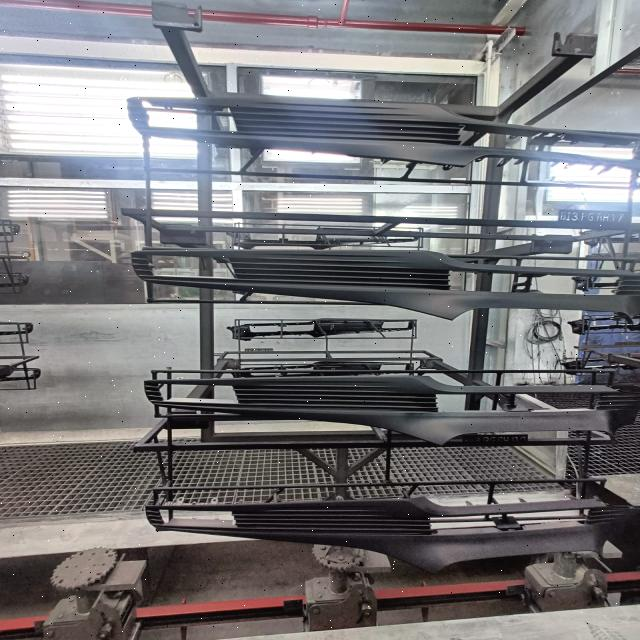Primered: (120, 92, 640, 185), (129, 242, 640, 329), (138, 492, 640, 580), (138, 372, 640, 455)
